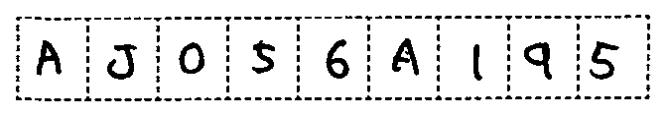0: (174, 37, 207, 78)
1: (461, 40, 498, 87)
5: (584, 37, 624, 83), (247, 37, 284, 78)
6: (321, 35, 357, 86)
9: (520, 36, 556, 84)
A: (387, 33, 423, 81), (30, 34, 66, 80)
J: (102, 38, 144, 86)
